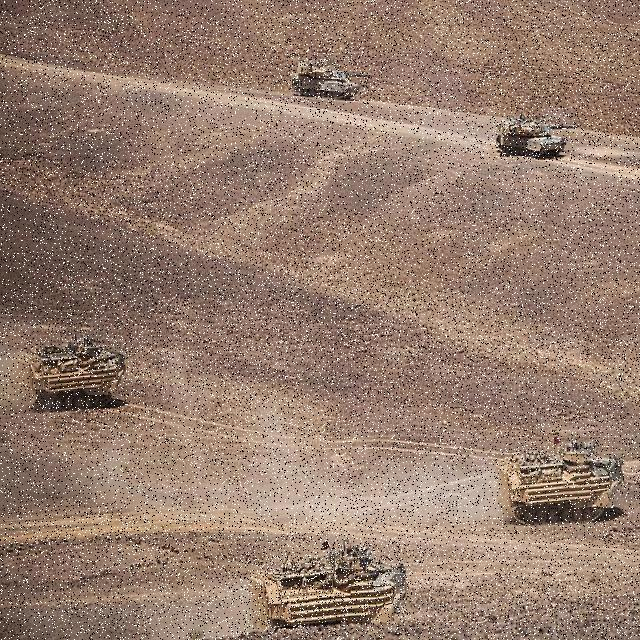MIL_MBT: (246, 537, 408, 637), (489, 437, 626, 529), (20, 337, 128, 415), (492, 111, 578, 162), (288, 56, 375, 104)
